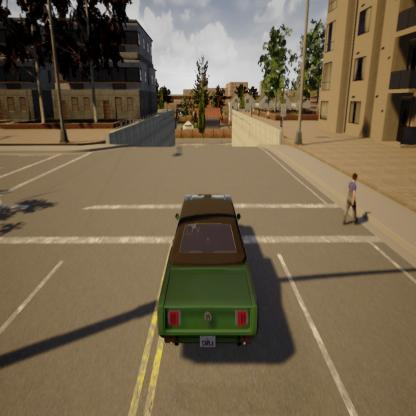Cars: (148, 176, 270, 374)
Pedestrian: (338, 154, 368, 247)
